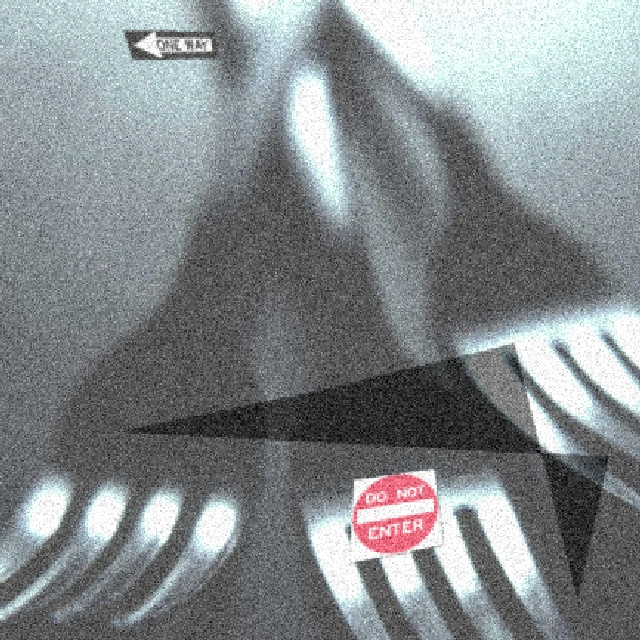DO_NOT_ENTER: (347, 467, 443, 563)
ONE_WAY_ left: (121, 28, 217, 59)
